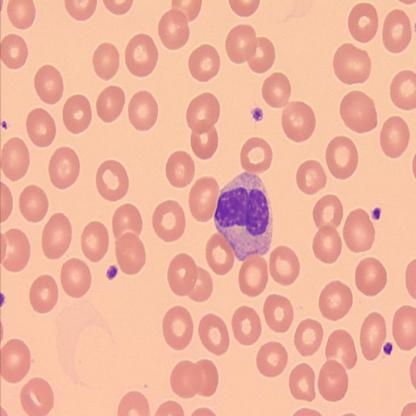Metamyelocyte: (212, 168, 276, 264)
